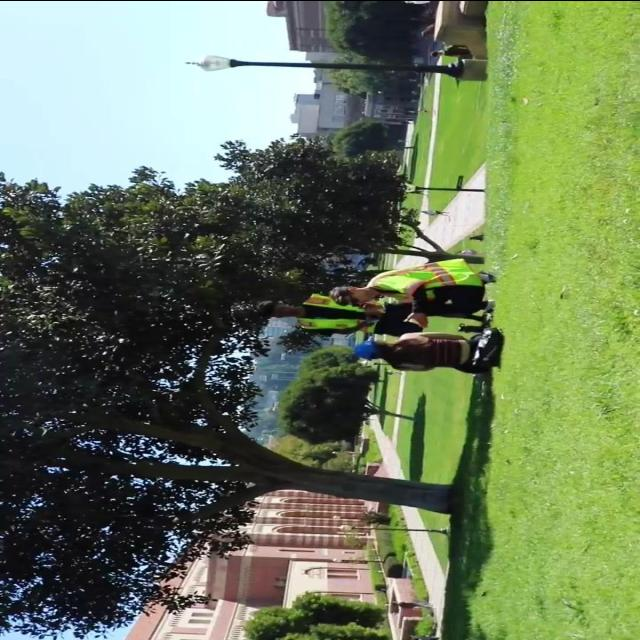helmet: (350, 340, 384, 364)
jacket: (366, 250, 484, 304), (294, 291, 374, 333)
